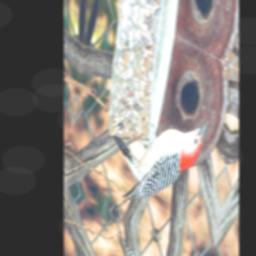Woodpecker: (101, 67, 210, 253)
